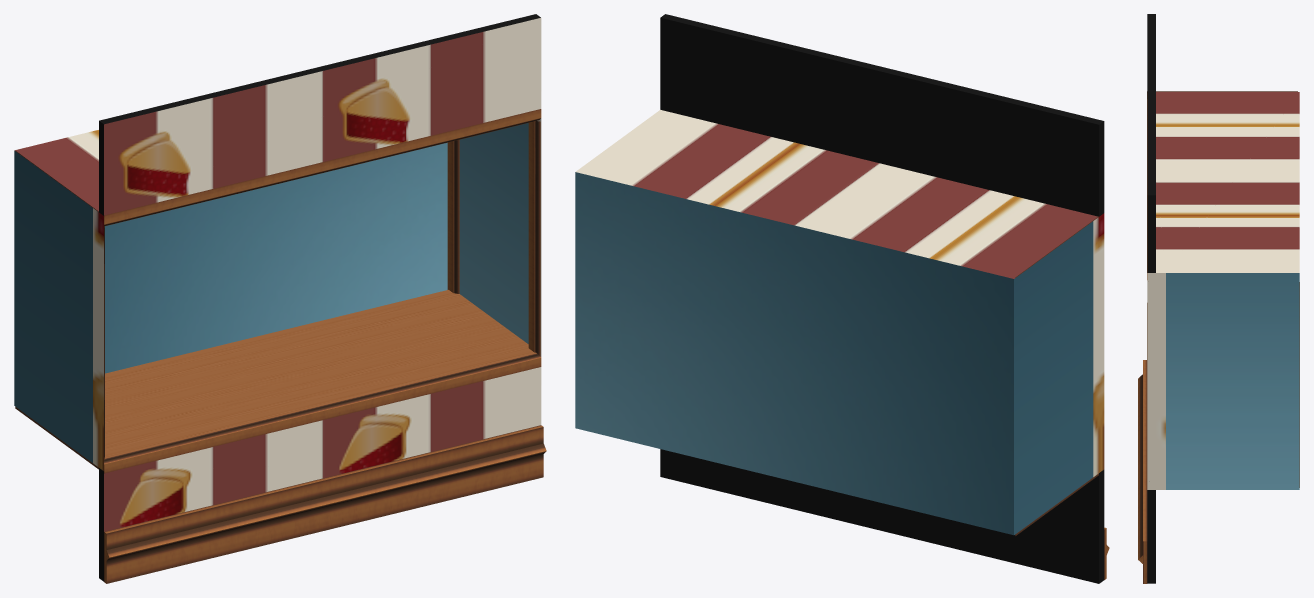
File: Wall_Window_Display_B_04.FBX
3 views of the same model, side by side, from view 1: azimuth 30°, elevation 25°; view 2: azimuth 150°, elevation 25°; view 3: azimuth 270°, elevation 25° (orthographic). The views are drawn at different scales.
Visible parts, largest first — view 1: Wall_Window DisplayB; view 2: Wall_Window DisplayB; view 3: Wall_Window DisplayB.
Boxes of the visible parts, box(x1,y1,x2,y2) form: Wall_Window DisplayB: box(14, 14, 546, 583); Wall_Window DisplayB: box(575, 14, 1109, 583); Wall_Window DisplayB: box(1138, 14, 1299, 583).
Size of the model in its own units: 500 by 500 by 189.
